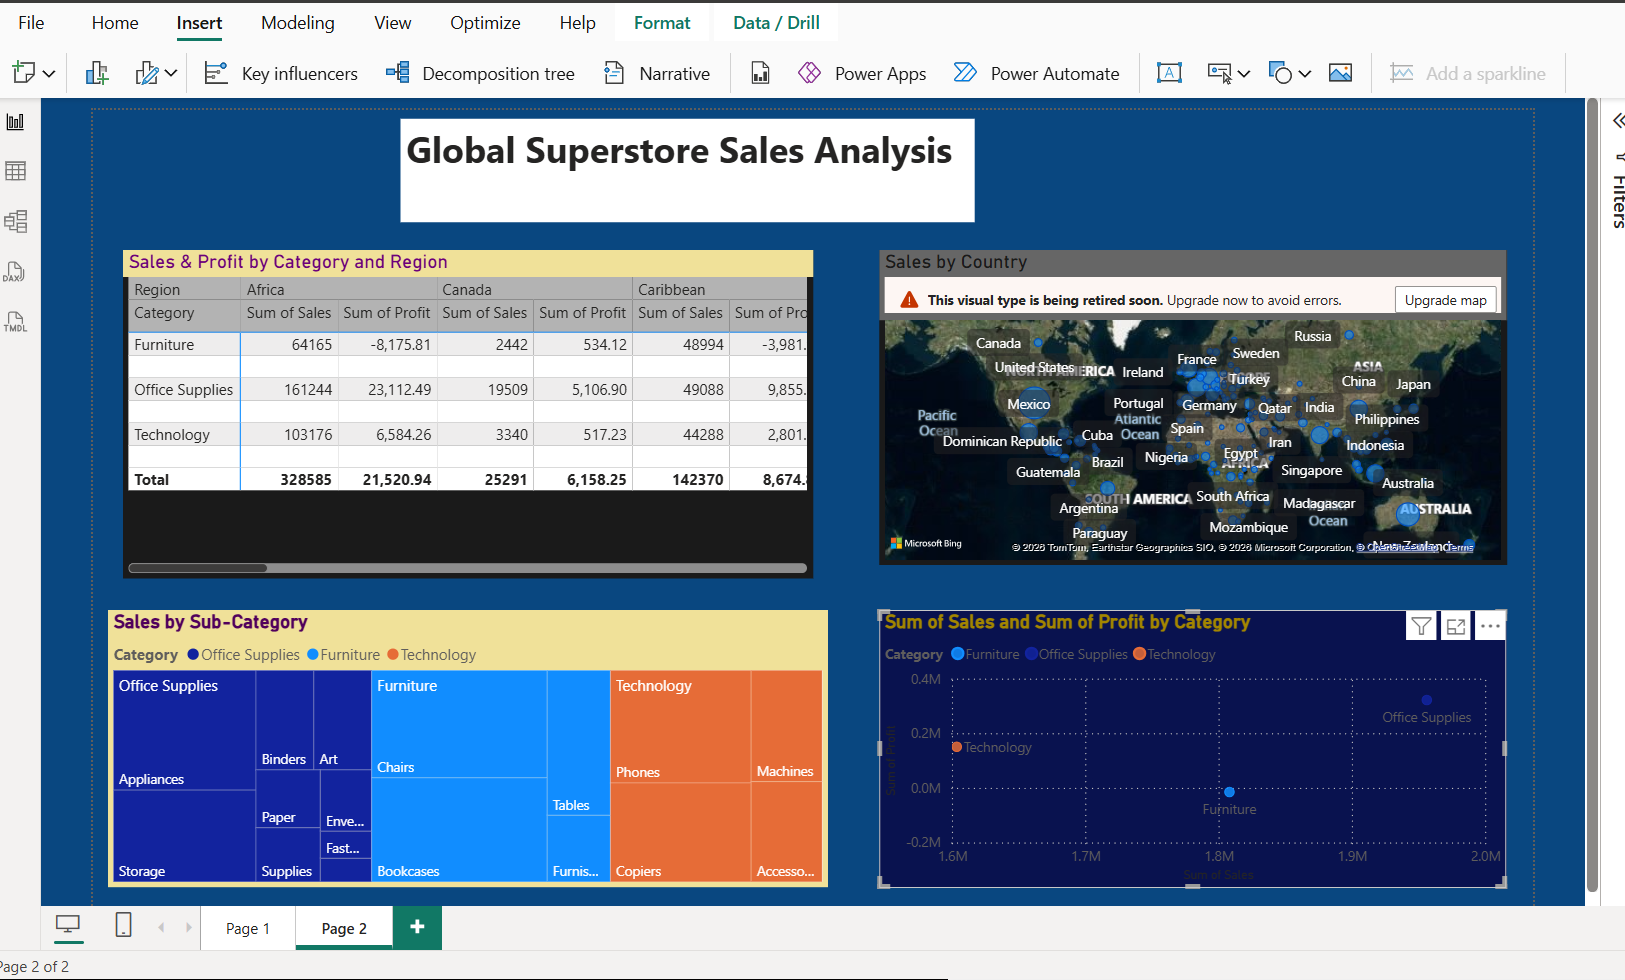

What the dashboard file says about the page in this screenshot:
{"tool":"powerbi","page":{"name":"Page 2","canvas":[1280,720],"ordinal":2},"visuals":[{"type":"pivotTable","title":"Sales & Profit by Category and Region","fields":{"Rows":["superstore.Category"],"Columns":["superstore.Region"],"Values":["Sum(superstore.Sales)","Sum(superstore.Profit)"]},"box":[26.7,124.4,613.3,292.2],"z":0},{"type":"map","title":" Sales by Country","fields":{"Category":["superstore.Country"],"Size":["Sum(superstore.Sales)"]},"box":[698.9,124.4,557.8,280],"z":1000},{"type":"treemap","title":"Sales by Sub-Category","fields":{"Group":["superstore.Category"],"Values":["Sum(superstore.Sales)"],"Details":["superstore.Sub Category"]},"box":[13.3,444.4,640,246.7],"z":2000},{"type":"scatterChart","fields":{"X":["Sum(superstore.Sales)"],"Y":["Sum(superstore.Profit)"],"Series":["superstore.Category"]},"box":[698.9,444.4,557.8,246.7],"z":3000},{"type":"textbox","box":[273.3,7.8,510,92.2],"z":4000}]}

Visuals, with their boxes on the page's 1280x720 design canvas (x1, y1, x2, y2). These are canvas units, not pixel positions in the 1625x980 screenshot, which may show the page scaled, cropped or inside an application window:
"Sales & Profit by Category and Region" pivotTable: x1=27, y1=124, x2=640, y2=417
" Sales by Country" map: x1=699, y1=124, x2=1257, y2=404
"Sales by Sub-Category" treemap: x1=13, y1=444, x2=653, y2=691
scatterChart - Sum(superstore.Sales) x Sum(superstore.Profit): x1=699, y1=444, x2=1257, y2=691
textbox: x1=273, y1=8, x2=783, y2=100
